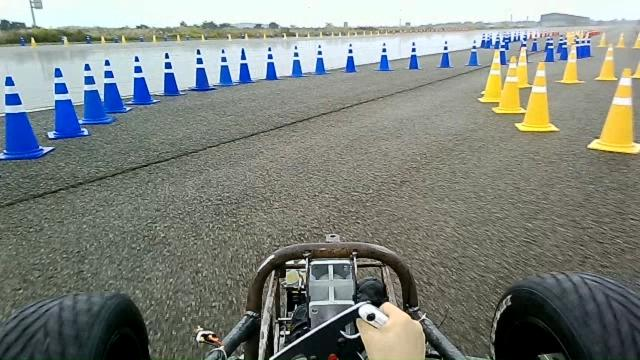blue cone: (0, 75, 54, 160), (46, 67, 90, 139), (78, 63, 116, 124), (124, 55, 160, 105), (102, 58, 132, 113), (154, 52, 186, 96), (188, 48, 217, 92), (212, 48, 238, 86), (233, 47, 257, 83), (259, 46, 282, 80), (285, 45, 308, 77), (308, 44, 331, 75), (374, 42, 394, 71), (404, 41, 422, 70), (341, 42, 358, 72), (436, 40, 454, 68)
yellow cone: (587, 67, 639, 154), (514, 61, 560, 132), (492, 55, 526, 114), (478, 49, 502, 103)
